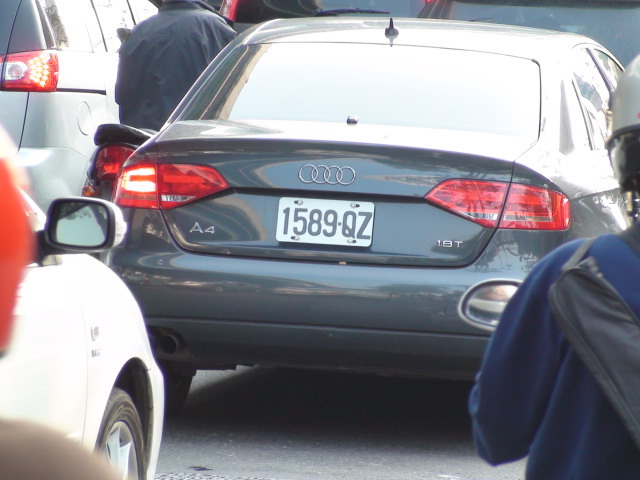plate: (275, 193, 377, 251)
